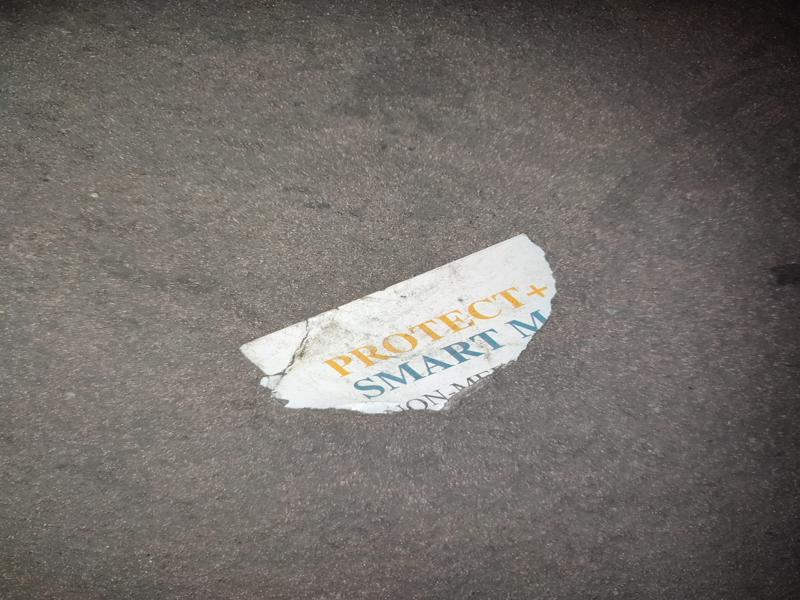papel: (239, 235, 557, 416)
